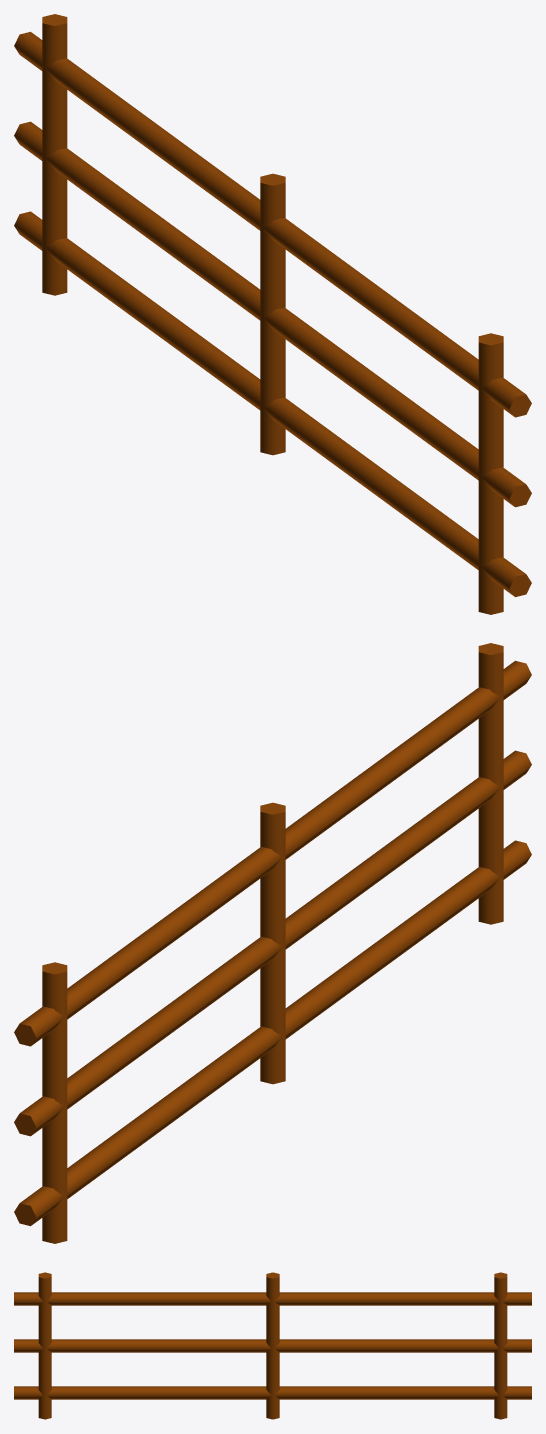
Rendered from fence.obj.
3 views of the same model, one above another, from view 1: azimuth 30°, elevation 25°; view 2: azimuth 150°, elevation 25°; view 3: azimuth 270°, elevation 25° (orthographic). The views are drawn at different scales.
Parts seen in each view (by area): view 1: cylinder4_copy6, cylinder4_copy5, cylinder4, cylinder1_copy2, cylinder1, cylinder1_copy3; view 2: cylinder4_copy6, cylinder4_copy5, cylinder4, cylinder1_copy3, cylinder1, cylinder1_copy2; view 3: cylinder4_copy6, cylinder4_copy5, cylinder4, cylinder1_copy3, cylinder1_copy2, cylinder1.
Part boxes in pixels (x1,y1,x2,y2): cylinder4_copy6: (14,31,531,417); cylinder4_copy5: (14,121,531,507); cylinder4: (14,211,531,597); cylinder1_copy2: (478,333,503,614); cylinder1: (260,173,285,455); cylinder1_copy3: (42,14,67,295); cylinder4_copy6: (14,660,531,1046); cylinder4_copy5: (14,750,531,1136); cylinder4: (14,840,531,1226); cylinder1_copy3: (42,962,67,1243); cylinder1: (260,802,285,1084); cylinder1_copy2: (478,643,503,924); cylinder4_copy6: (14,1292,531,1305); cylinder4_copy5: (14,1339,531,1352); cylinder4: (14,1386,531,1399); cylinder1_copy3: (494,1272,507,1419); cylinder1_copy2: (38,1272,51,1419); cylinder1: (266,1272,279,1419).
Bounding box in the file's own units: 0.5839 × 6 × 20.
